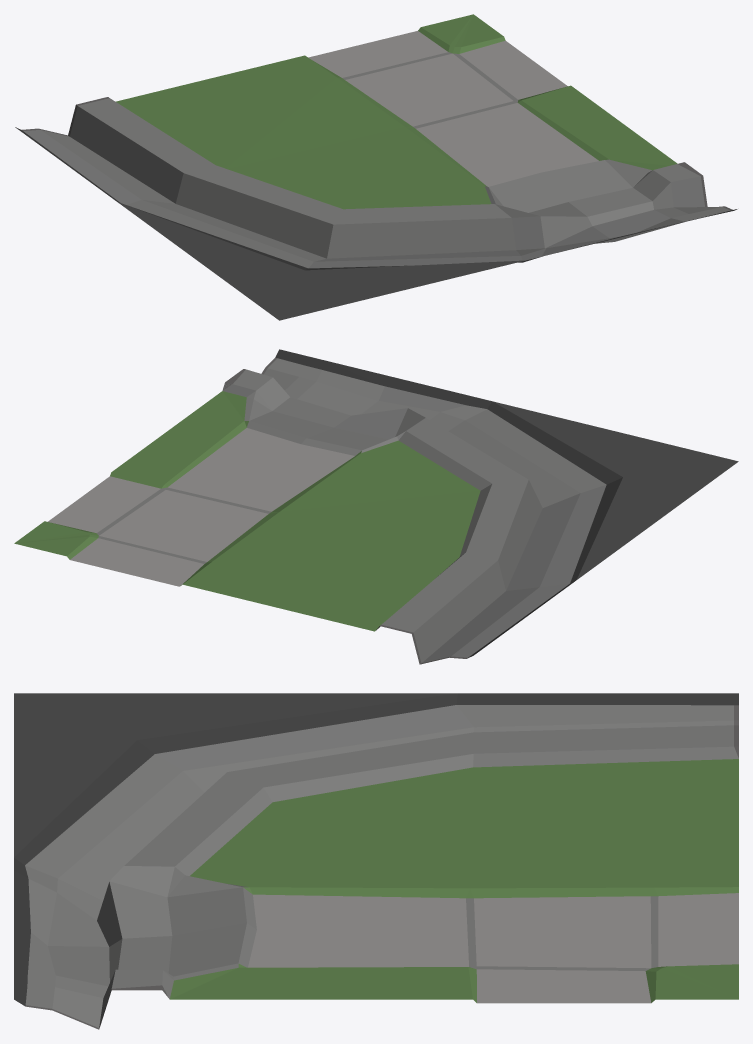
The model's file is SM_Env_Sidewalk_Corner_02.fbx.
3 renders of one model, top to bottom at view 1: azimuth 30°, elevation 25°; view 2: azimuth 150°, elevation 25°; view 3: azimuth 270°, elevation 25°, orthographic. The views are drawn at different scales.
Parts seen in each view (by area): view 1: SM_Env_Sidewalk_Corner_02; view 2: SM_Env_Sidewalk_Corner_02; view 3: SM_Env_Sidewalk_Corner_02.
Boxes of the visible parts, x1,y1,x2,y2 form: SM_Env_Sidewalk_Corner_02: (15, 14, 737, 320); SM_Env_Sidewalk_Corner_02: (14, 349, 738, 664); SM_Env_Sidewalk_Corner_02: (14, 693, 738, 1029).
Size of the model in its own units: 500 by 30 by 500.
